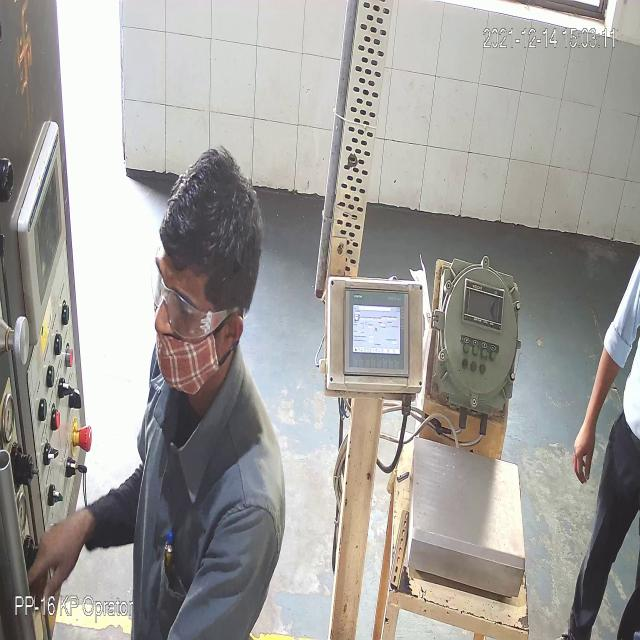glasses: (148, 265, 232, 331)
no-gloves: (568, 340, 616, 490)
